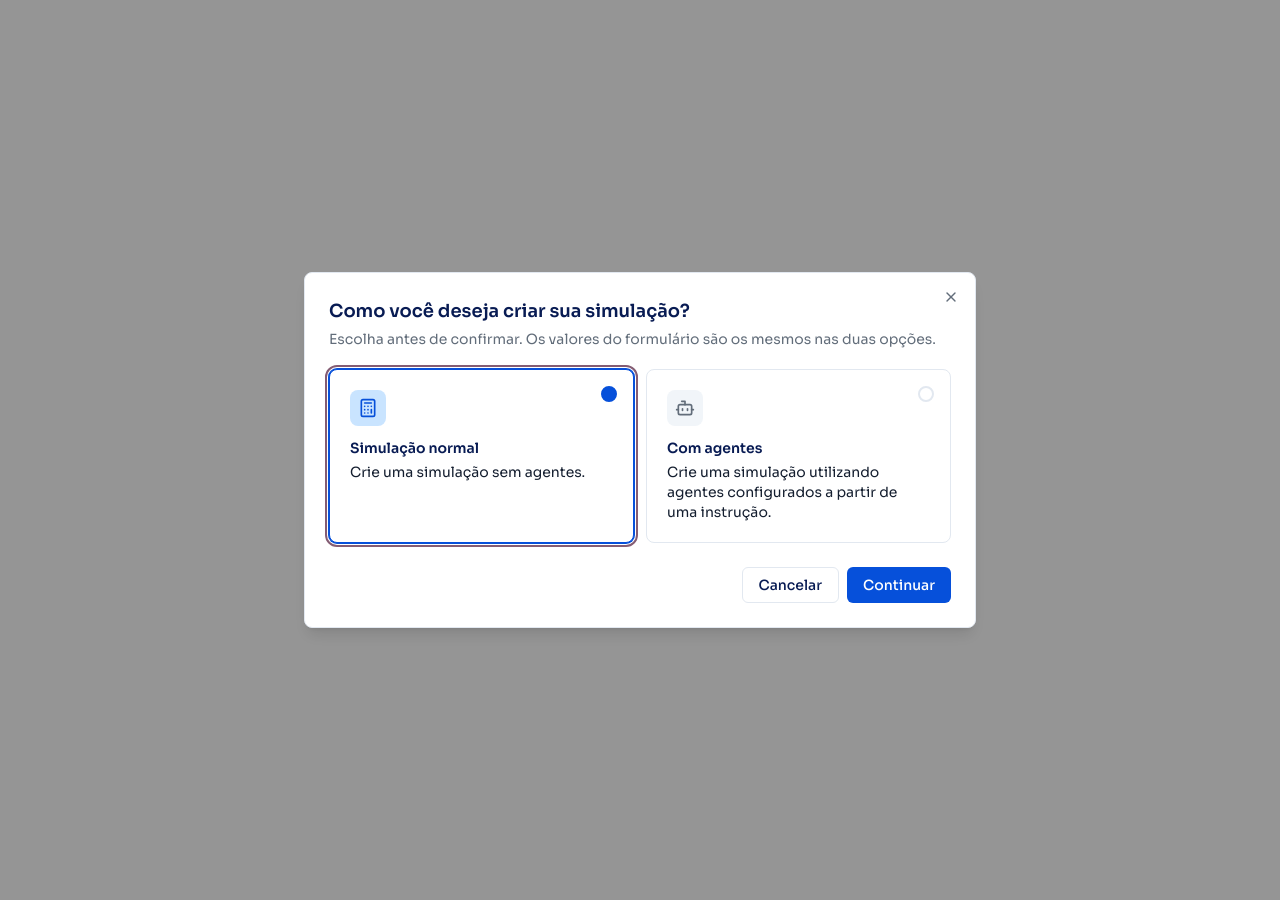
Test: creation mode dialog › "Voltar" returns to the choice, keeping what was written
The image size is (1280, 900).
Click the radio button labelled "Com agentes" at {"x": 685, "y": 408}, box x1=646 y1=369 x2=951 y2=543
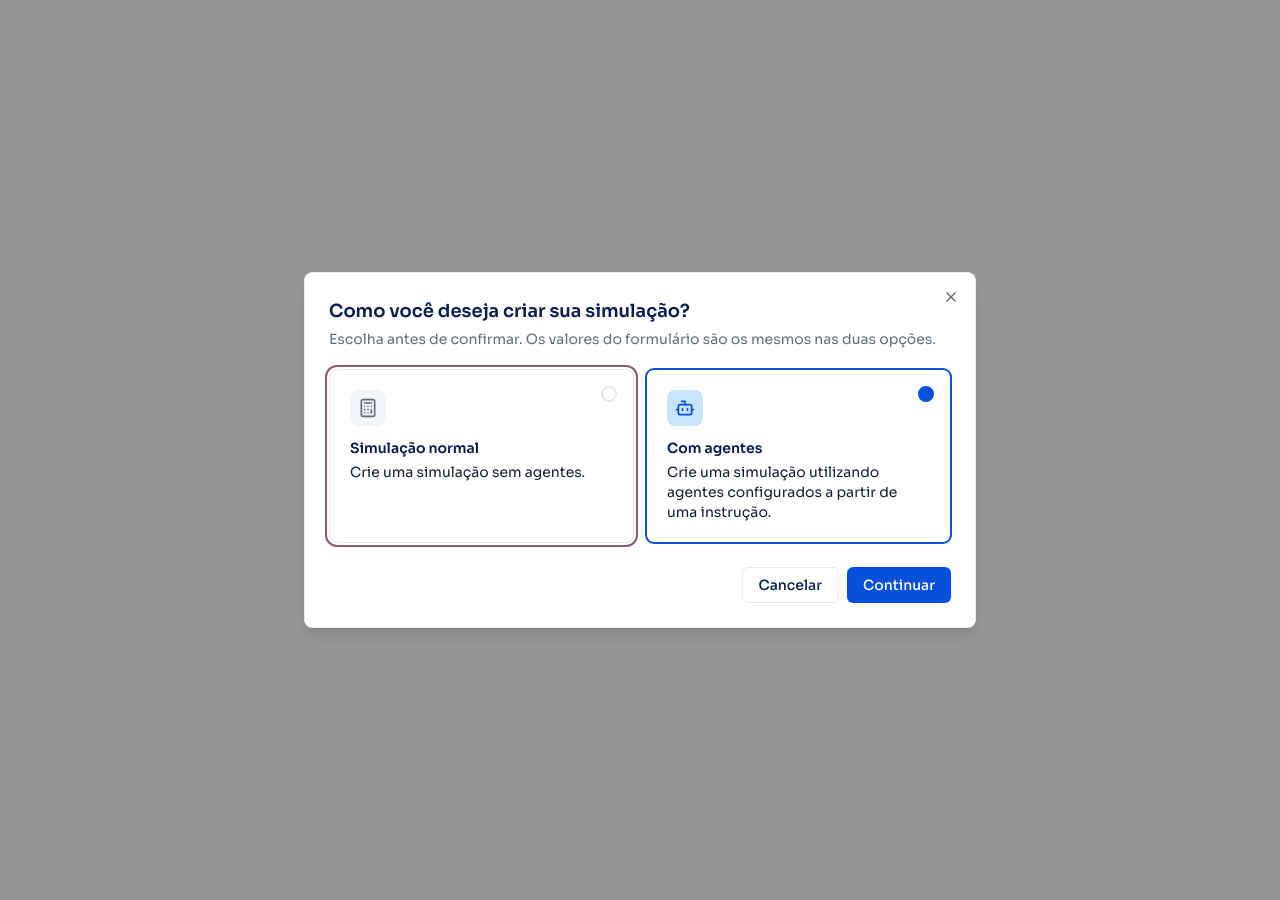
Click the button "Continuar" at {"x": 899, "y": 585}, box x1=847 y1=567 x2=951 y2=603
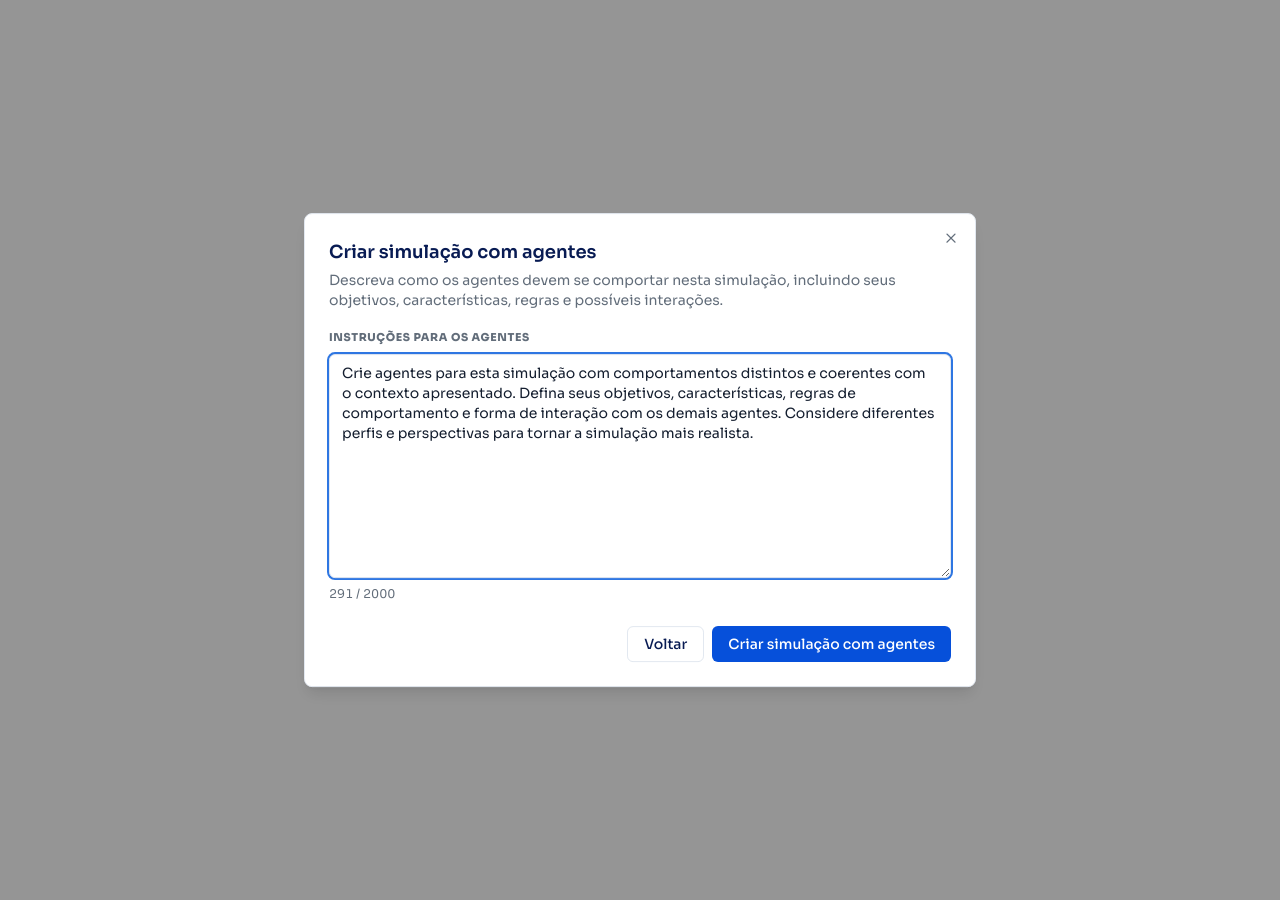
Replace the text in the text box labelled "Instruções para os agentes" with "meu texto" at {"x": 640, "y": 466}, box x1=329 y1=354 x2=951 y2=578
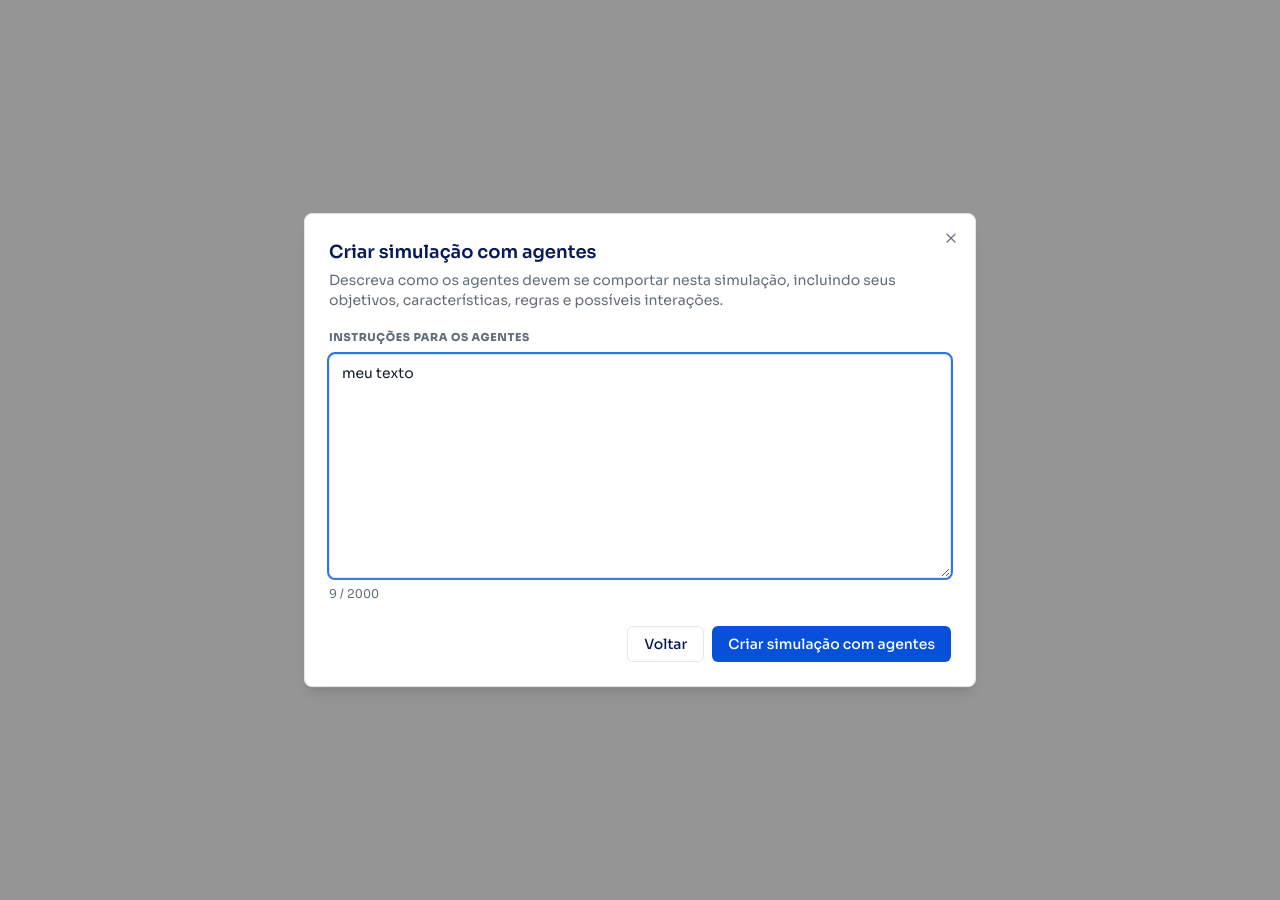
Click the button "Voltar" at {"x": 666, "y": 644}, box x1=627 y1=626 x2=704 y2=662
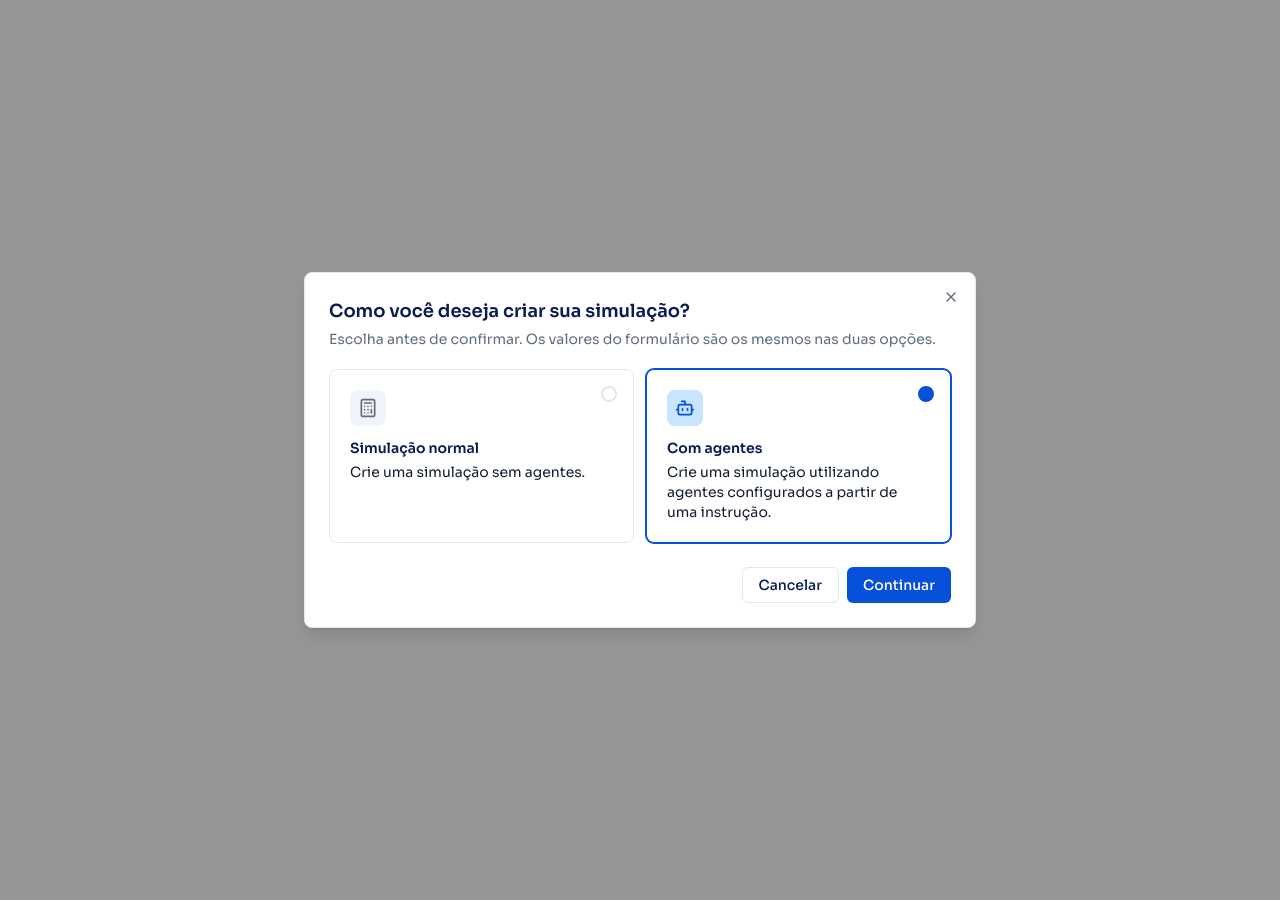
expect the radio button labelled "Com agentes" is checked: met, box x1=646 y1=369 x2=951 y2=543
Click the button "Continuar" at {"x": 899, "y": 585}, box x1=847 y1=567 x2=951 y2=603
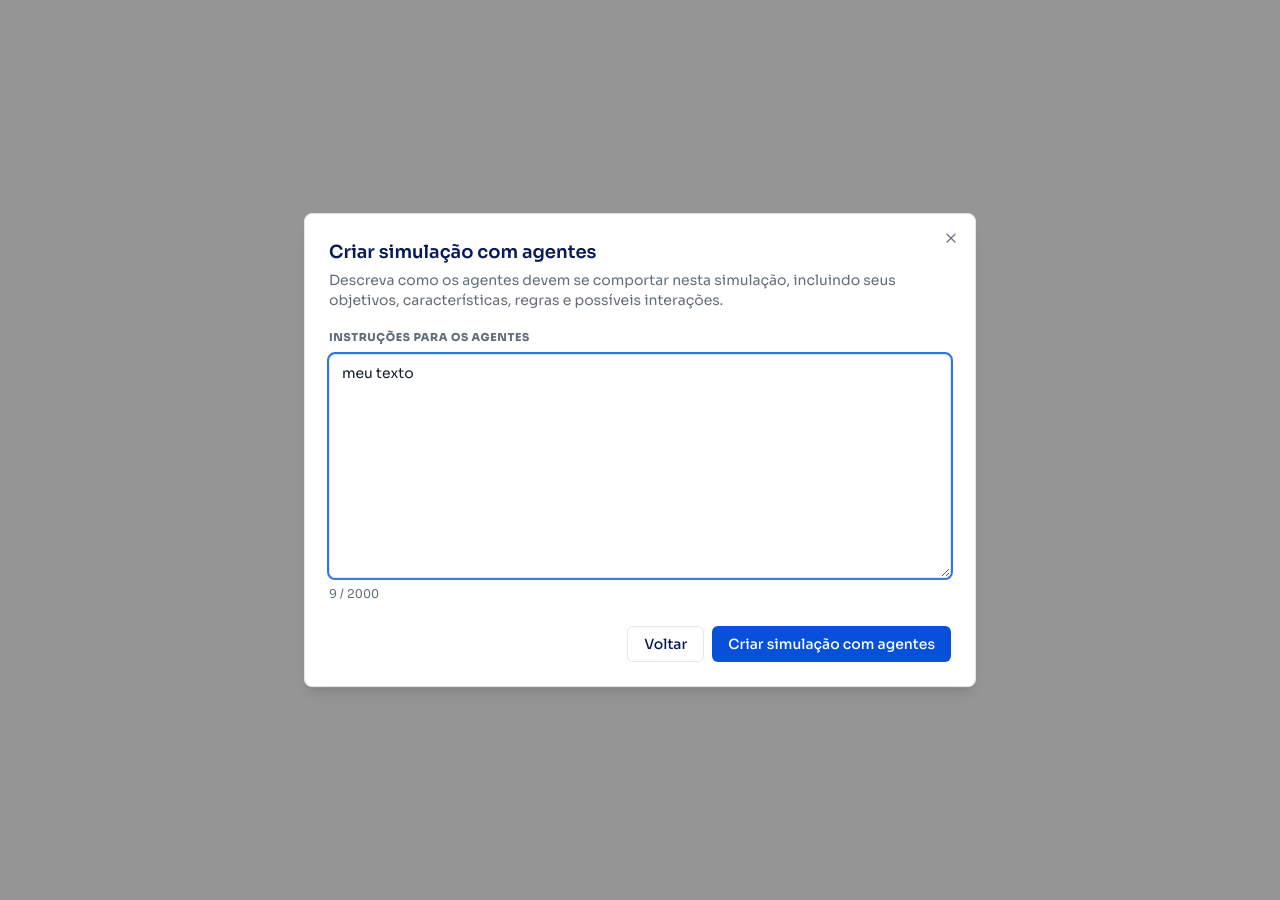
expect the text box labelled "Instruções para os agentes" holds "meu texto": met, box x1=329 y1=354 x2=951 y2=578
